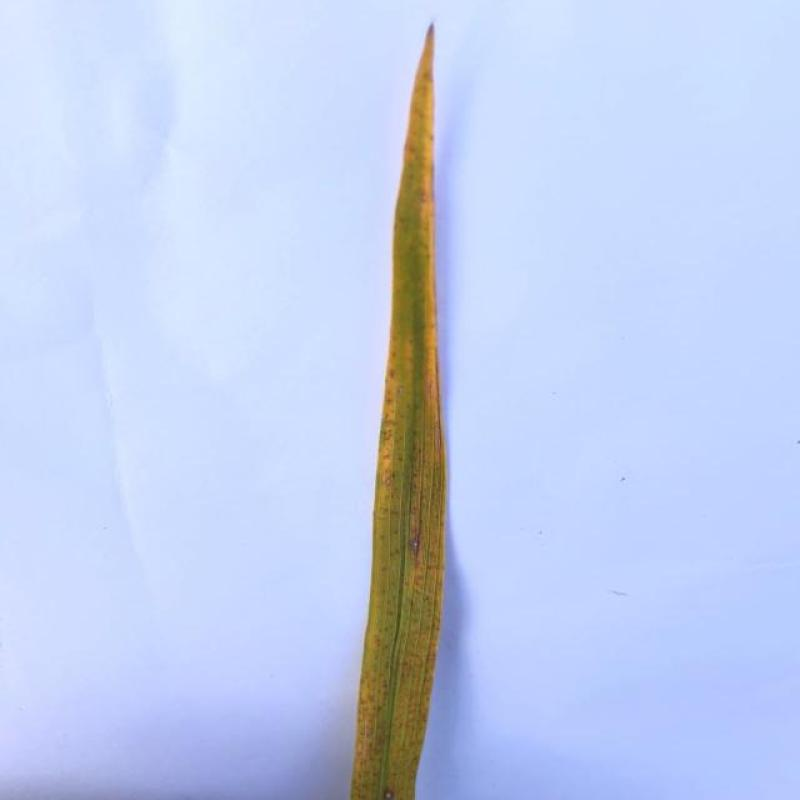Rice Tungro: (346, 0, 457, 800)
